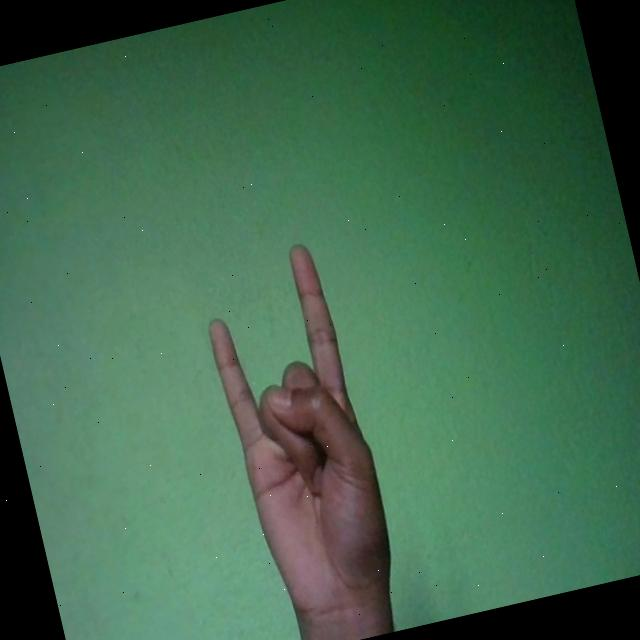open Plam: (190, 236, 408, 640)
